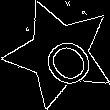O_NW: (25, 20, 93, 87)
